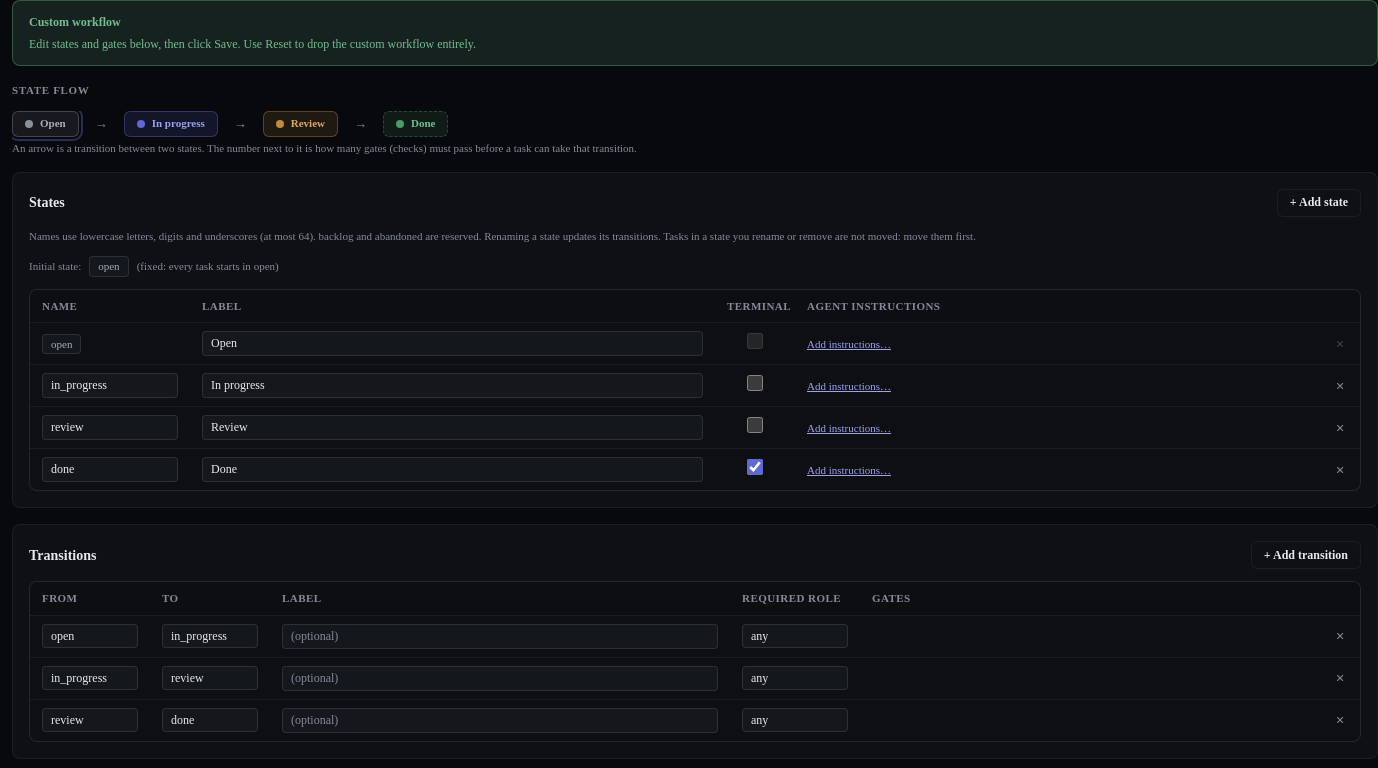
workflow page: rename › keeps following the row across several renames
Check: the button "+ Add state" is shown, box [1277,189,1361,217]
Replace the text in the field named "State name for row 3" with "q" at (110, 428), box [42,415,178,440]
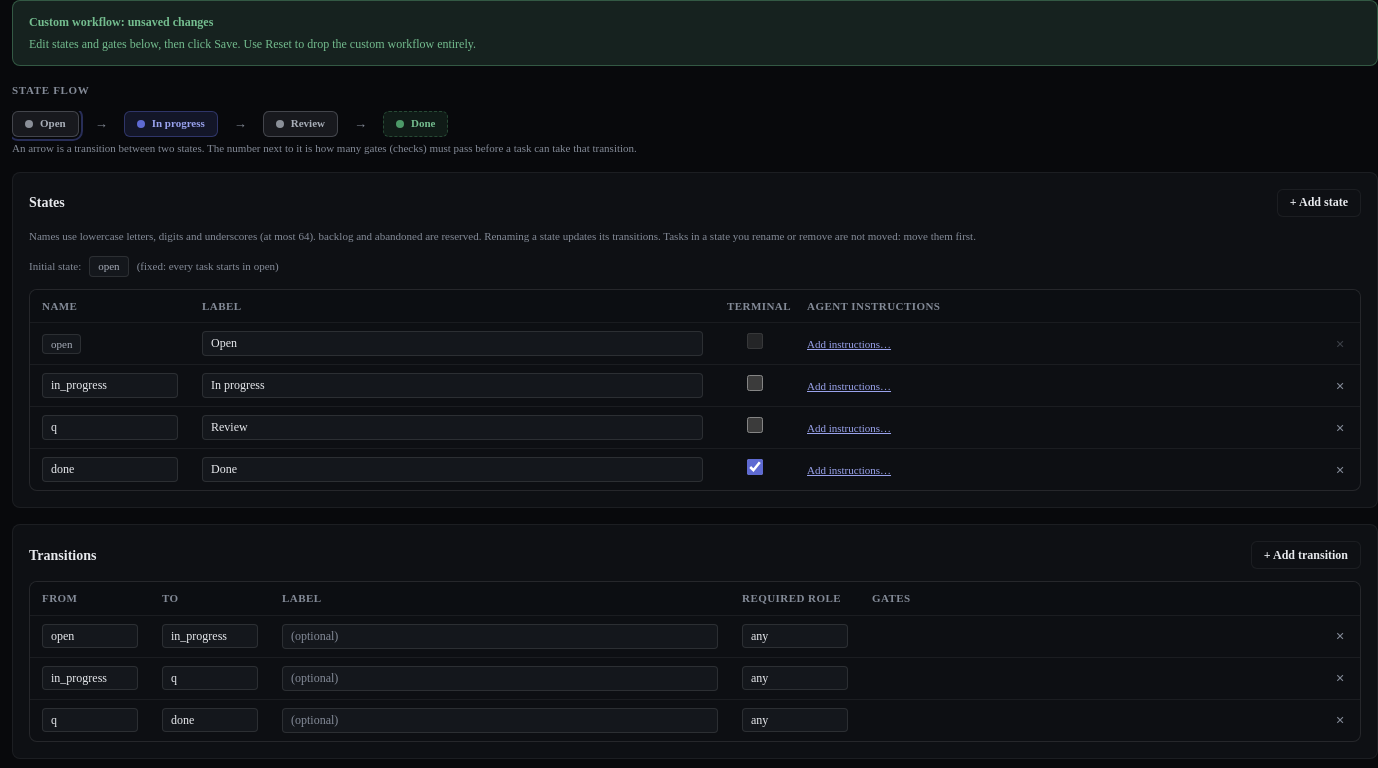
Replace the text in the field named "State name for row 3" with "qa" at (110, 428), box [42,415,178,440]
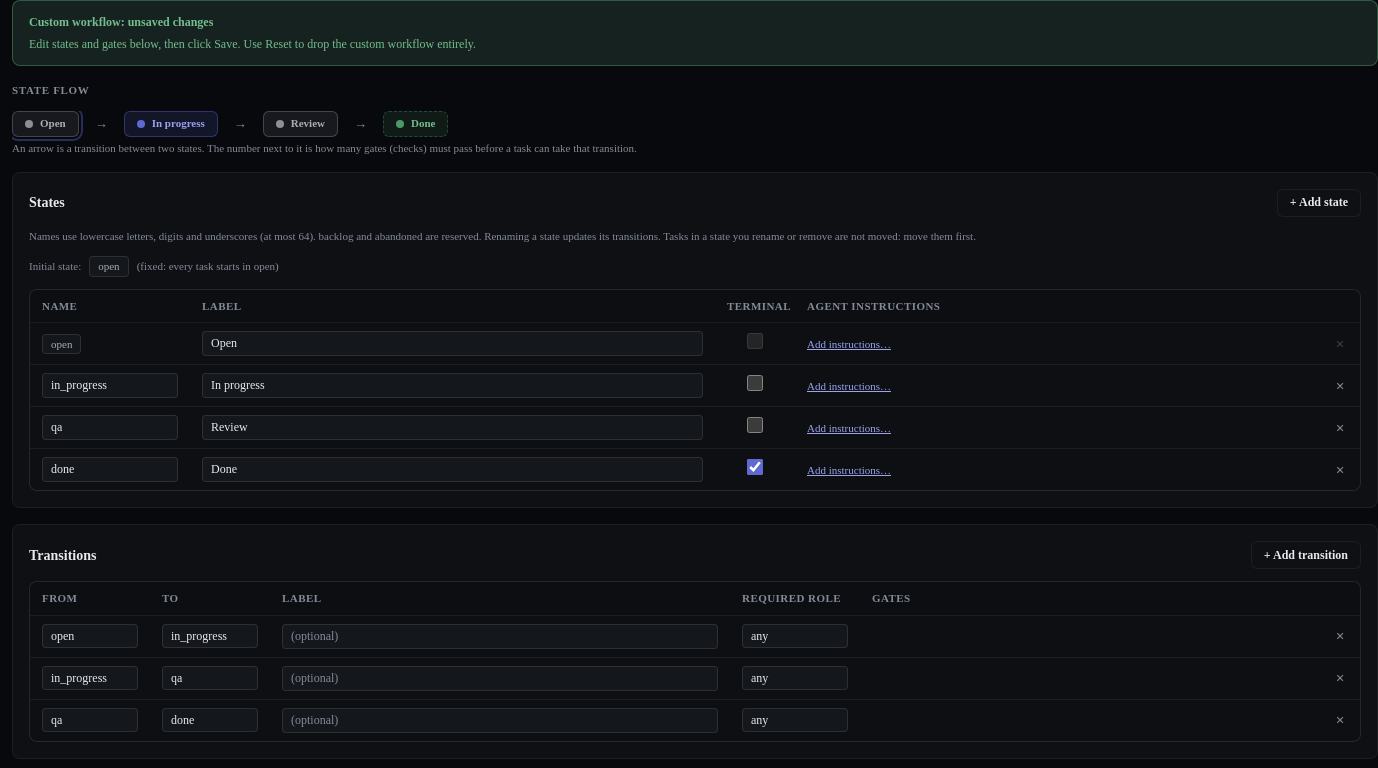
Replace the text in the field named "State name for row 3" with "qa_2" at (110, 428), box [42,415,178,440]
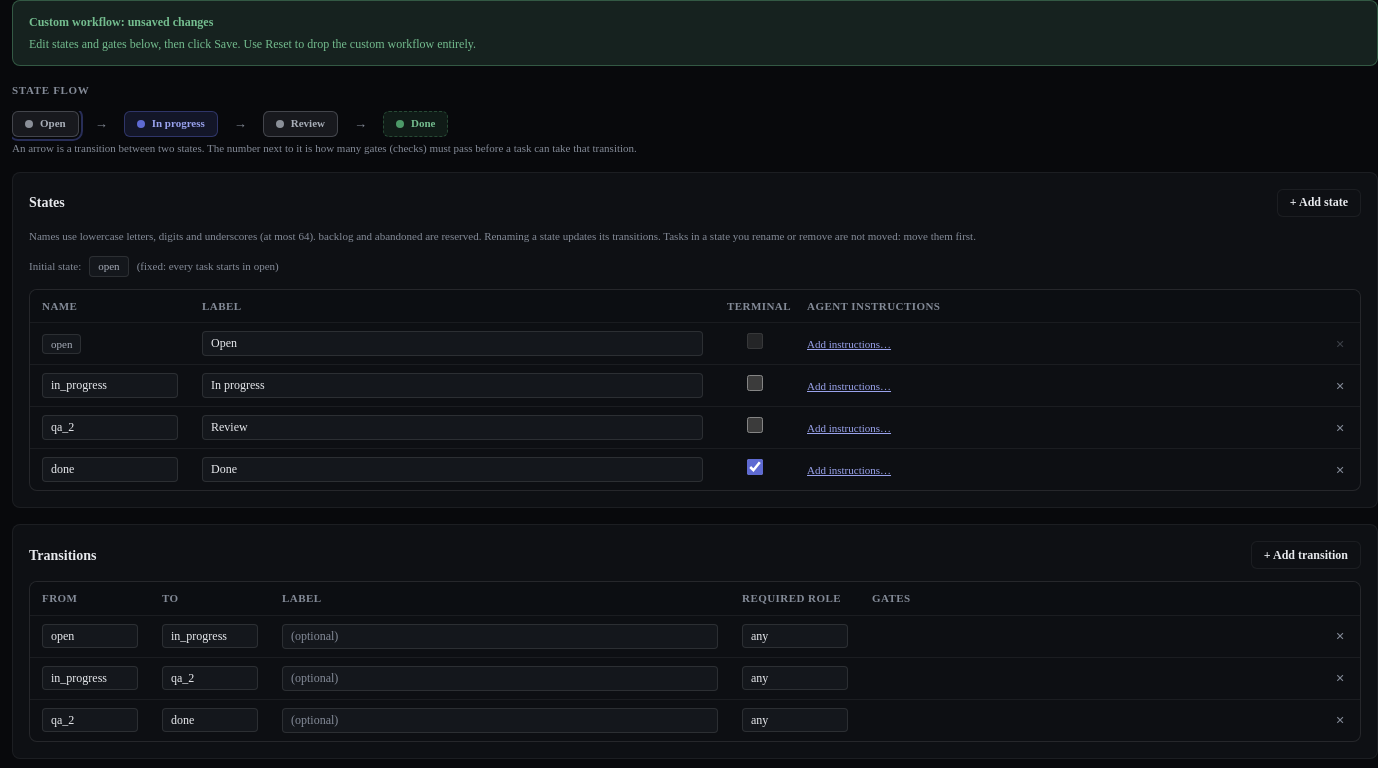
Check: the dropdown named "To state for transition 2" shows "qa_2", box [162,666,258,690]
Check: the dropdown named "From state for transition 3" shows "qa_2", box [42,708,138,732]
